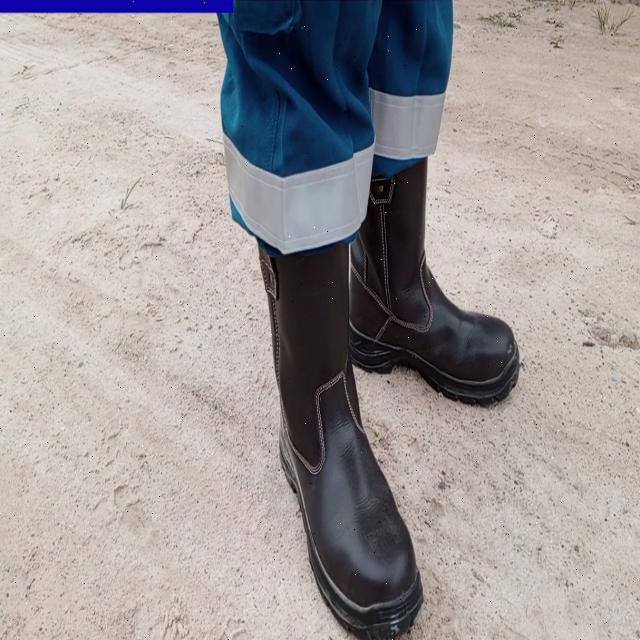Overall Suit: (214, 7, 453, 257)
Safety Boots: (260, 242, 425, 638), (352, 157, 520, 408)
